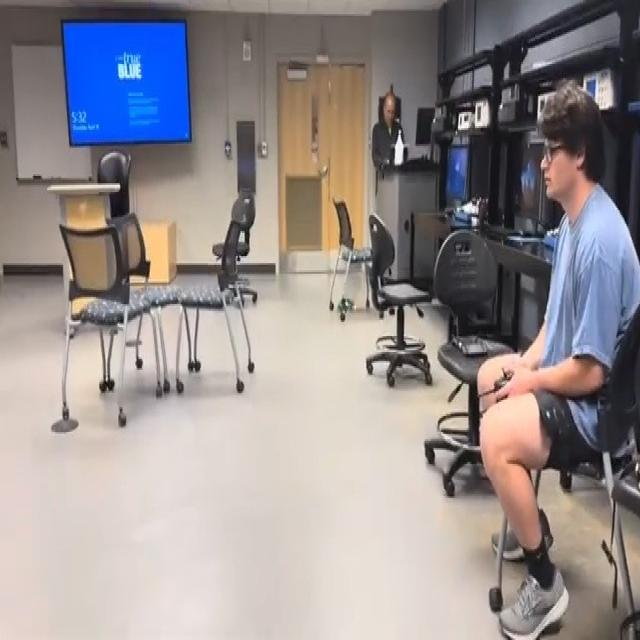drone: (332, 285, 362, 322)
